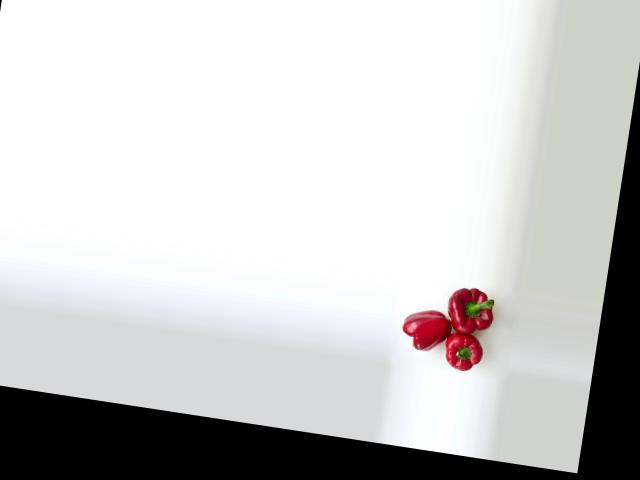bell_pepper: (392, 301, 455, 362)
